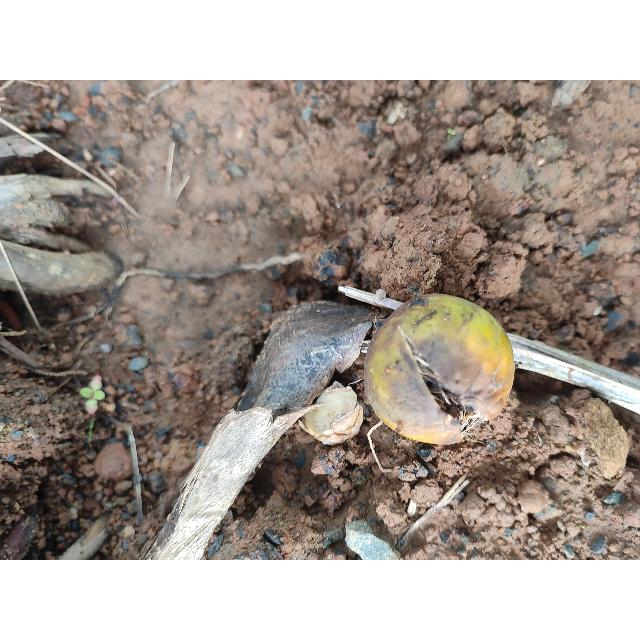damaged: (344, 295, 517, 448)
